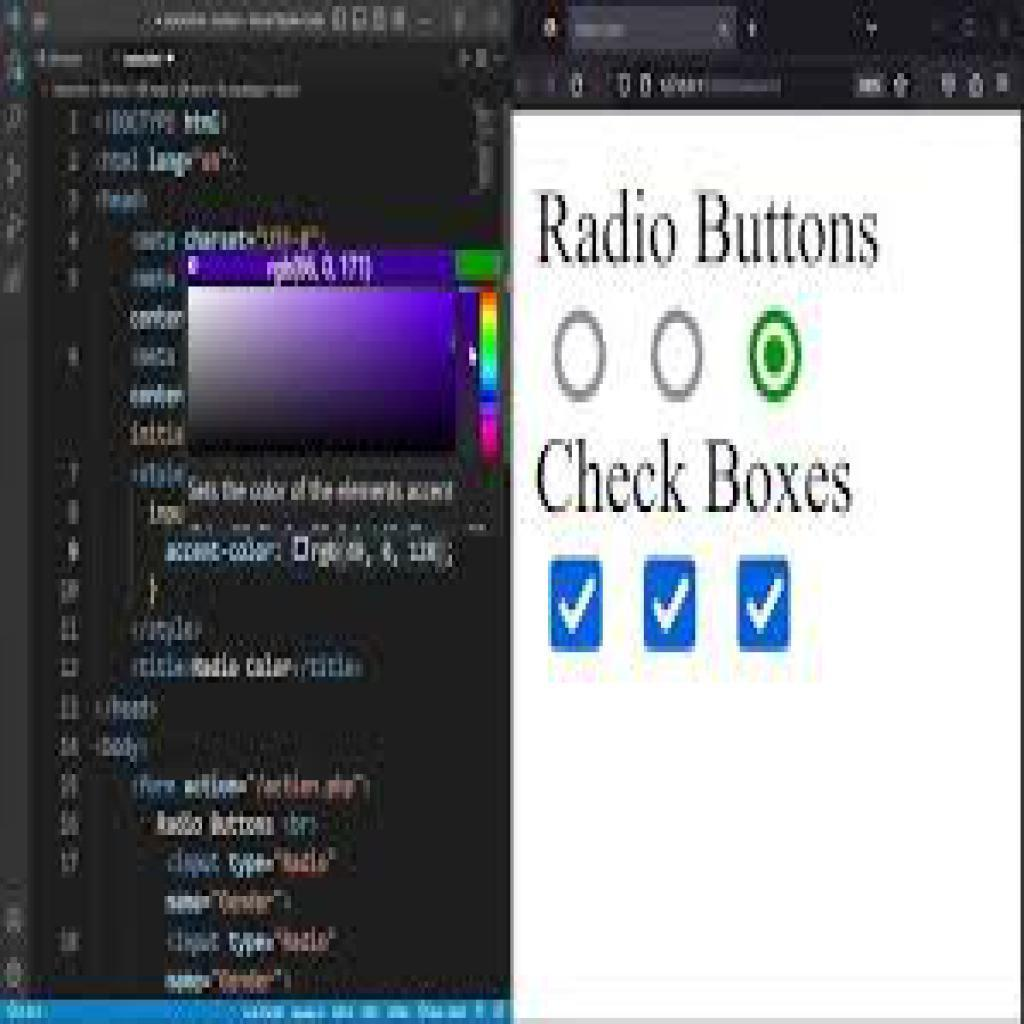checkbox: (644, 555, 700, 657), (737, 555, 792, 654), (552, 557, 607, 655)
radio: (650, 306, 706, 405), (554, 307, 609, 406), (752, 310, 802, 404)
